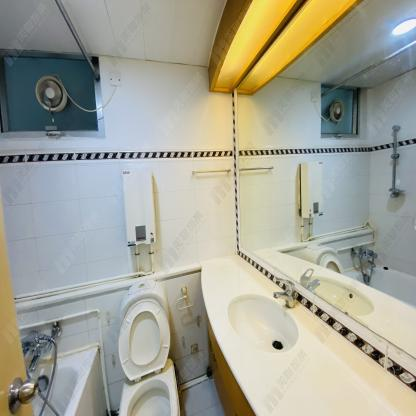Bathtub: (23, 347, 106, 416)
Exhaust Fan: (30, 73, 72, 116)
Toilet: (117, 281, 179, 416)
Toilet Sink: (227, 296, 299, 352)
